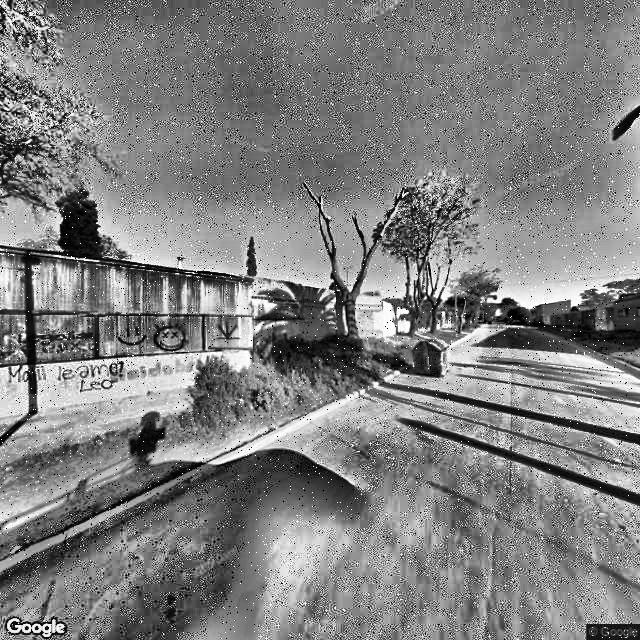Dustbin: (408, 334, 458, 386)
